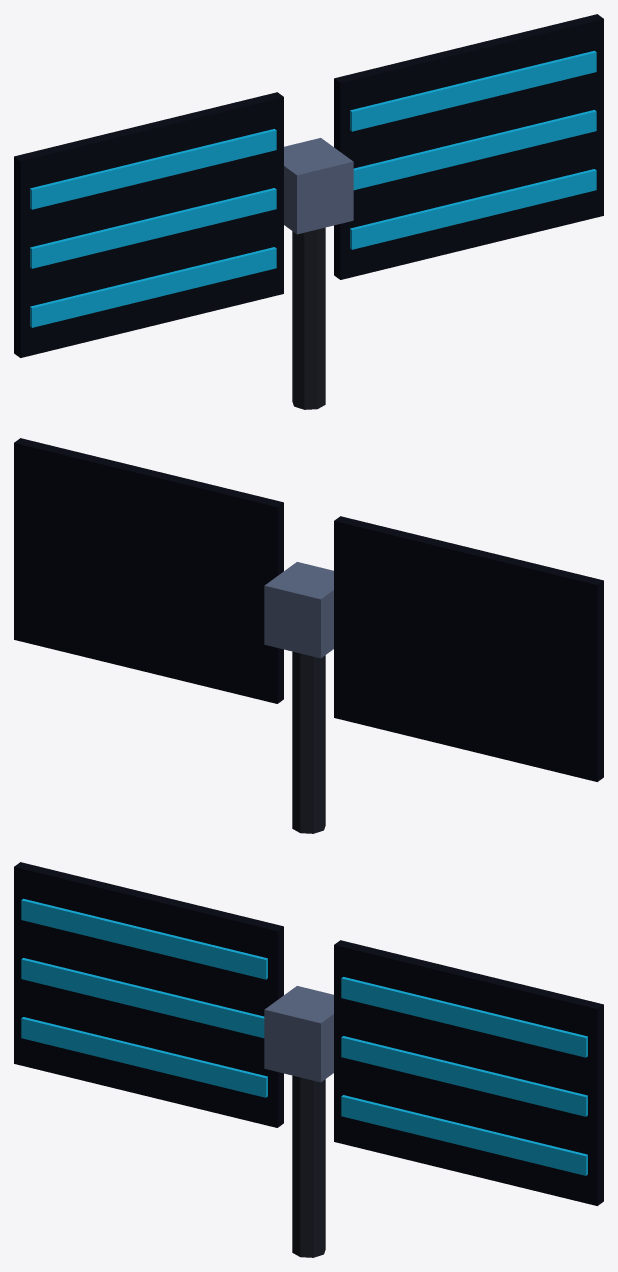
File: solar_panel.obj
3 renders of one model, top to bottom at view 1: azimuth 30°, elevation 25°; view 2: azimuth 150°, elevation 25°; view 3: azimuth 330°, elevation 25°, orthographic.
Visible parts, largest first — view 1: solar_panel; view 2: solar_panel; view 3: solar_panel.
Part boxes in pixels (left/top/right/bottom): solar_panel: left=14, top=14, right=603, bottom=409; solar_panel: left=14, top=438, right=603, bottom=833; solar_panel: left=14, top=862, right=603, bottom=1257.
Size of the model in its own units: 3.1 by 1.6 by 0.3.
